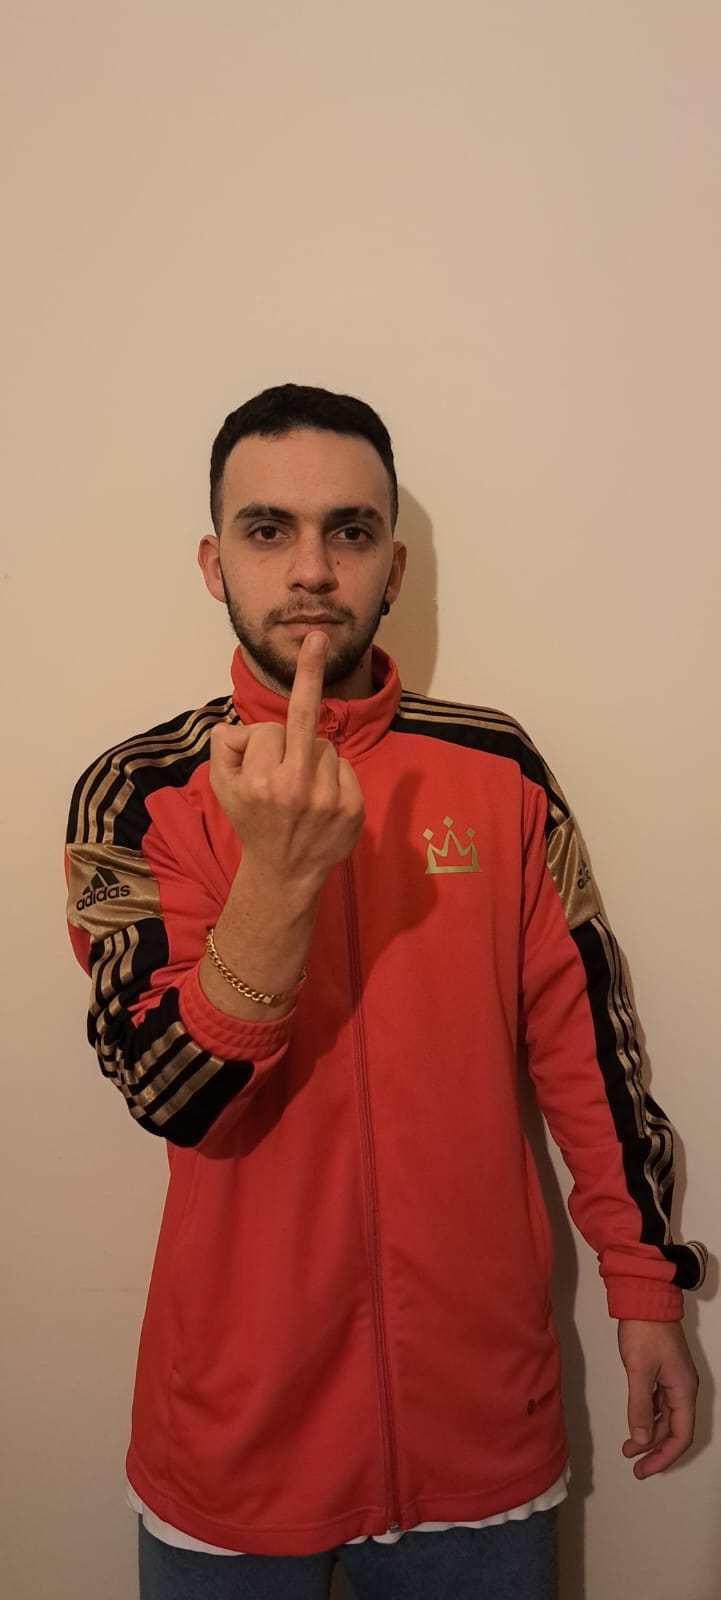fck: (201, 623, 375, 881)
